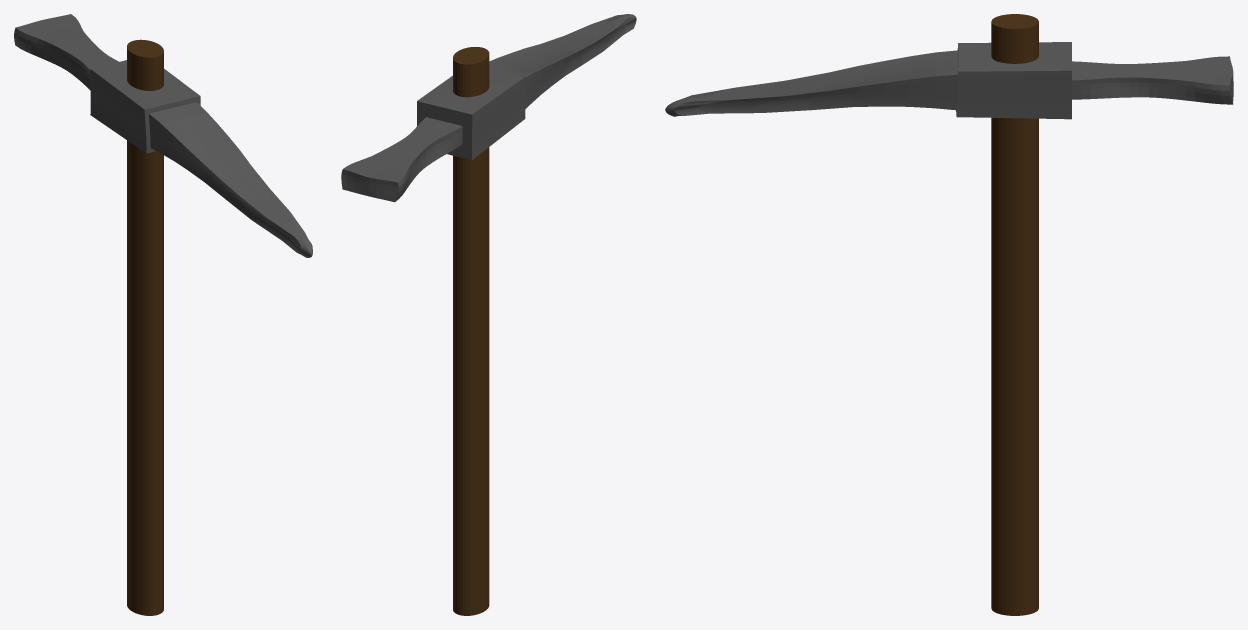
File: pickaxe.glb
3 renders of one model, left to right at view 1: azimuth 30°, elevation 25°; view 2: azimuth 150°, elevation 25°; view 3: azimuth 270°, elevation 25°, orthographic. The views are drawn at different scales.
Visible parts, largest first — view 1: handler, axe; view 2: handler, axe; view 3: handler, axe.
Boxes of the visible parts, left/top/right/bottom form: handler: left=127, top=39, right=163, bottom=615; axe: left=14, top=14, right=312, bottom=257; handler: left=453, top=47, right=489, bottom=615; axe: left=341, top=14, right=636, bottom=202; handler: left=991, top=14, right=1038, bottom=615; axe: left=665, top=42, right=1233, bottom=119.
Size of the model in its own units: 0.0963 by 0.8854 by 0.7772.
